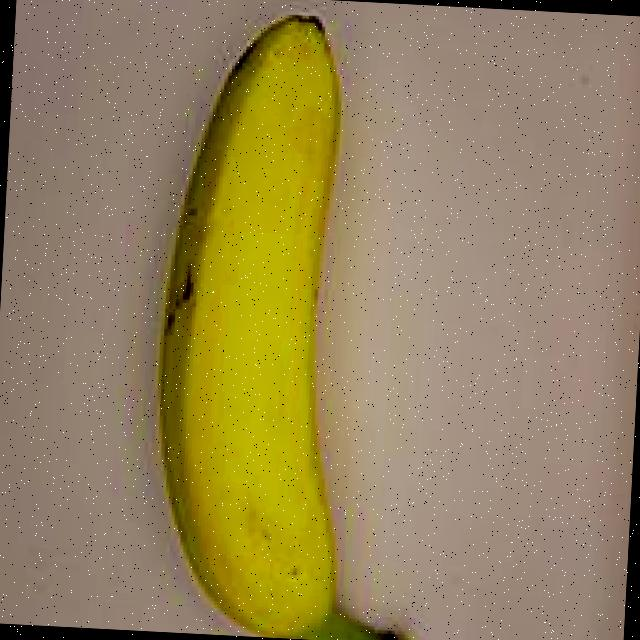Ripe: (95, 0, 508, 640)
